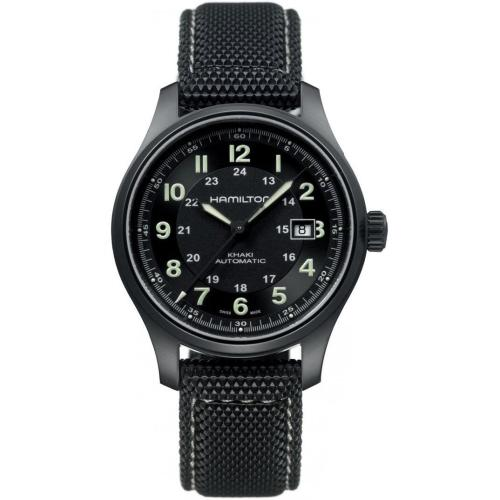watch: (99, 2, 397, 500)
